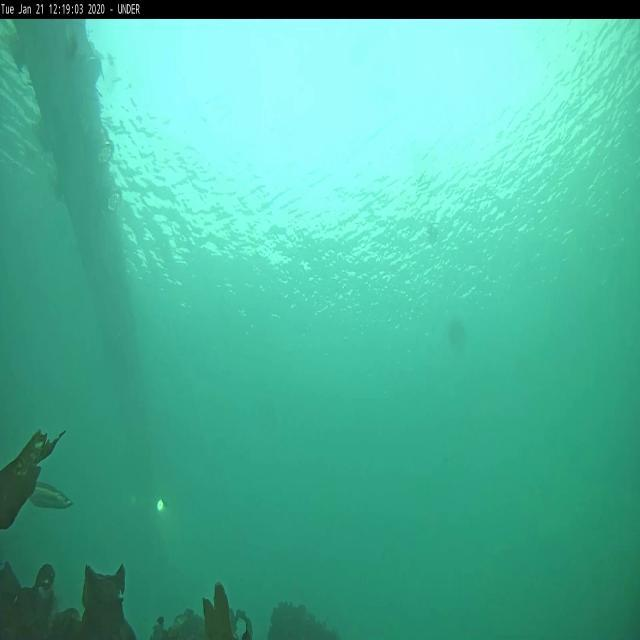fish: (30, 482, 74, 512)
